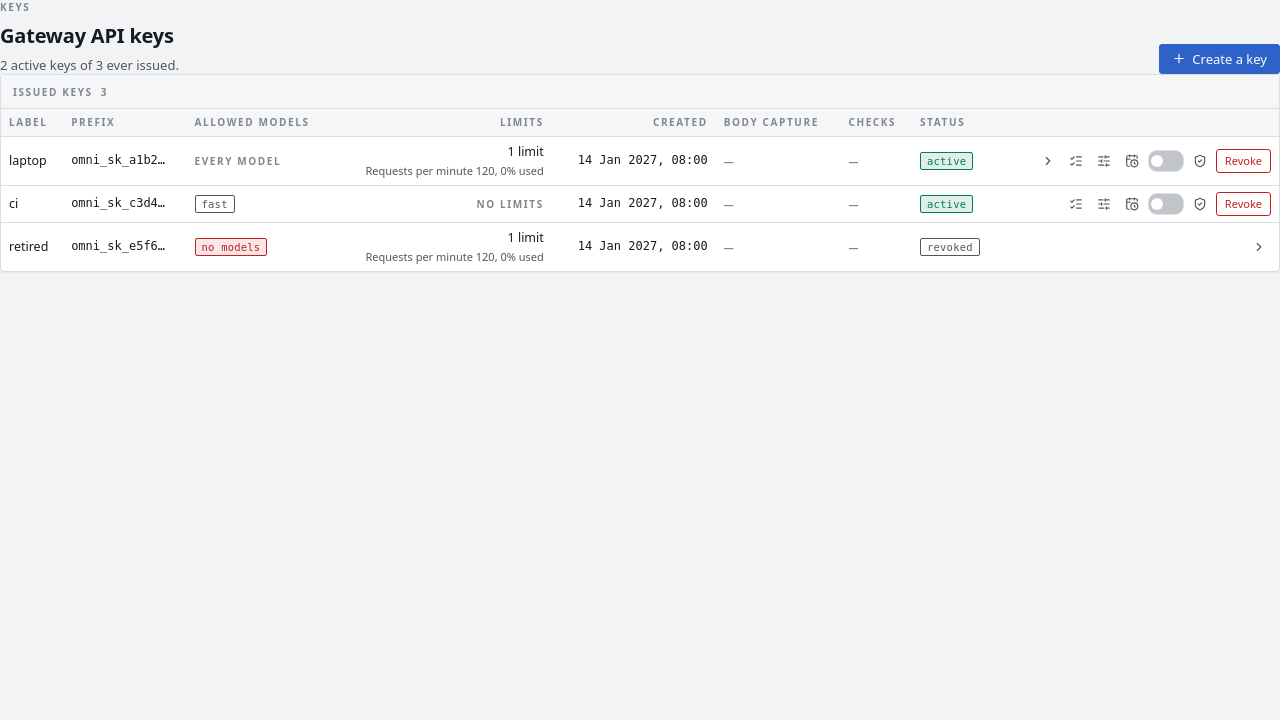
Test: KeysBoard › the raw key is shown once, with a warning that it is the only copy
Click the button "Create a key".
click(1220, 59)  # box [1159,44,1279,74]
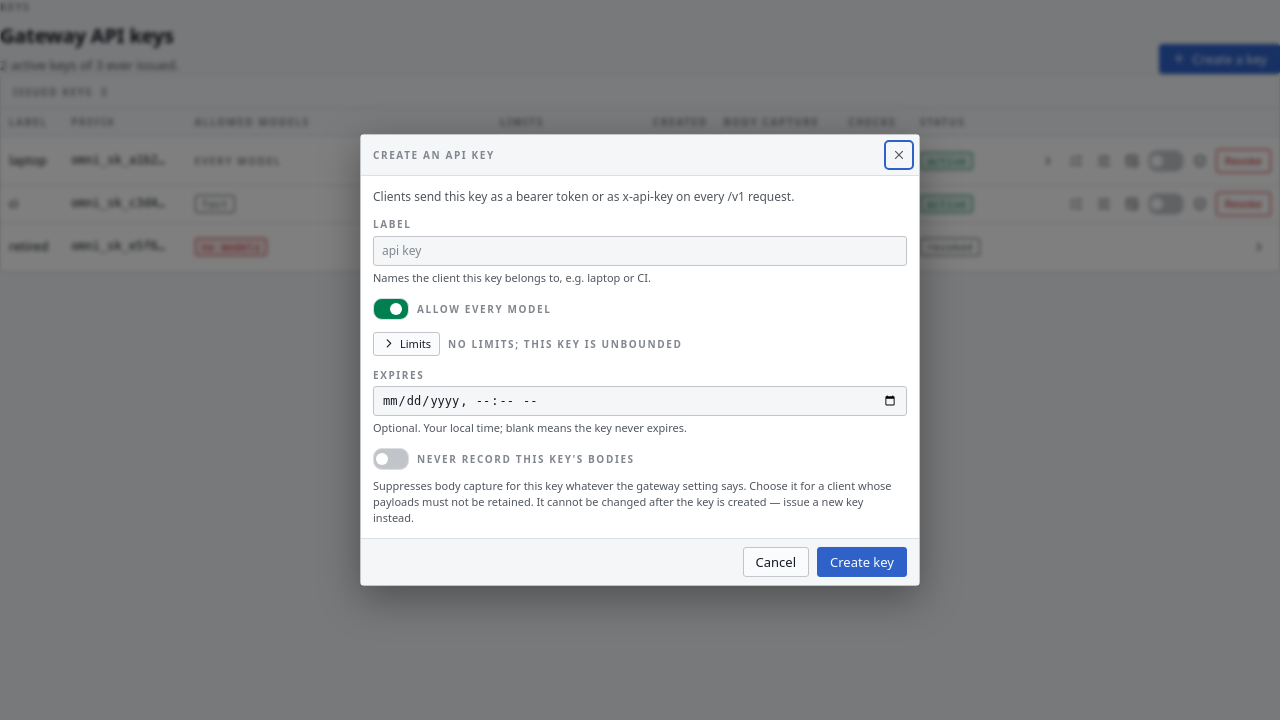
Click the button "Create key".
click(862, 562)  # box [817,547,907,577]
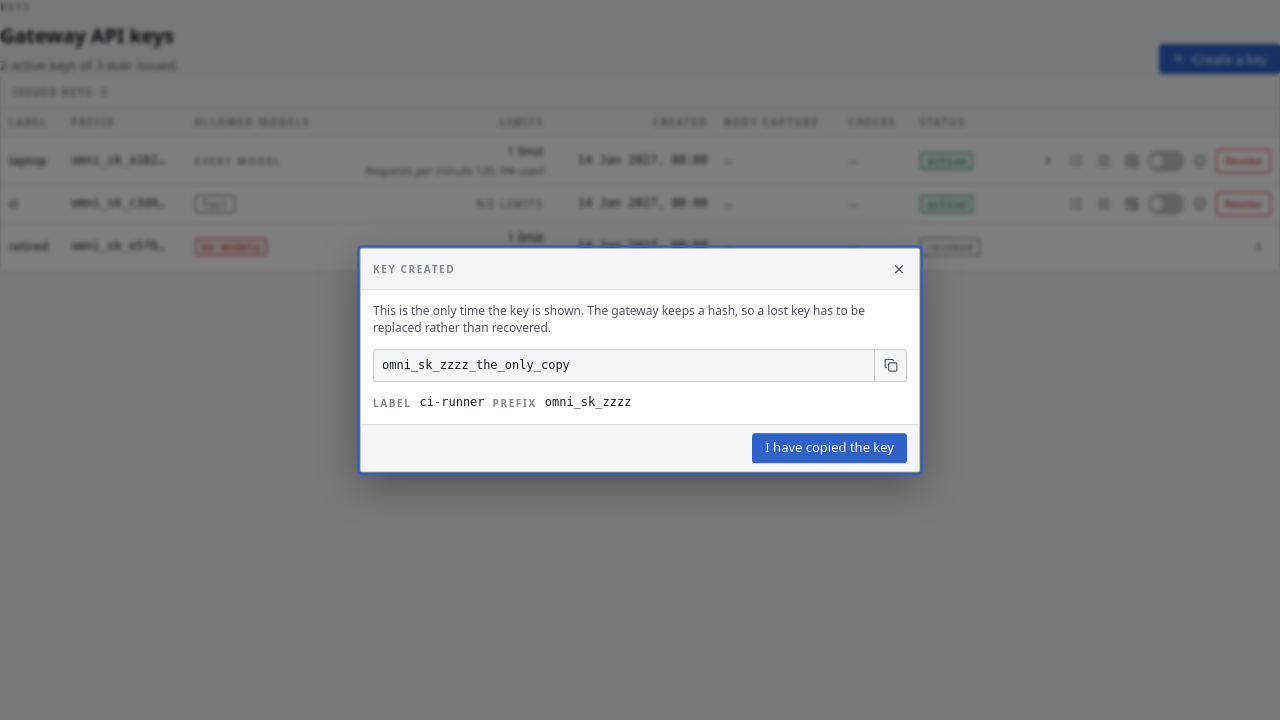
Now the text "omni_sk_zzzz_the_only_copy" is shown, box [382,358,570,372]
Now the text "only time the key is shown" is shown, box [373,302,865,337]
Now the button named "Copy API key" is shown, box [874,350,906,381]
